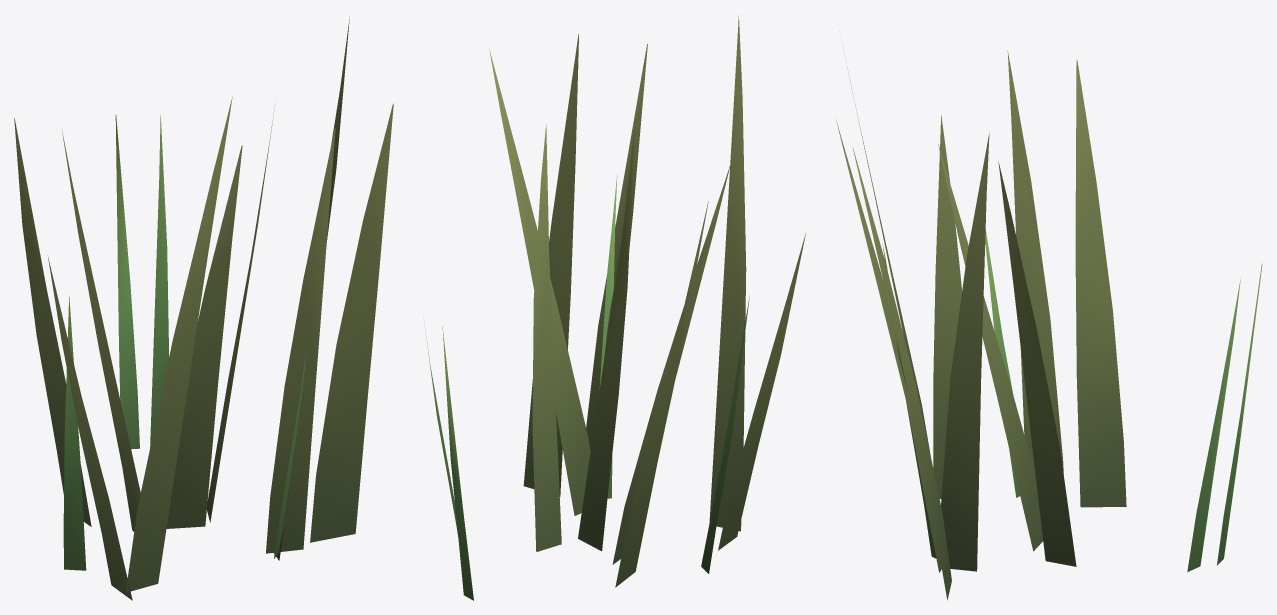
Rendered from BroadBlade_LOD0.glb.
3 views of the same model, side by side, from view 1: azimuth 30°, elevation 25°; view 2: azimuth 150°, elevation 25°; view 3: azimuth 270°, elevation 25° (orthographic). The views are drawn at different scales.
Visible parts, largest first — view 1: BroadBlade_LOD0; view 2: BroadBlade_LOD0; view 3: BroadBlade_LOD0.
Boxes of the visible parts, left/top/right/bottom form: BroadBlade_LOD0: left=14, top=16, right=393, bottom=600; BroadBlade_LOD0: left=424, top=15, right=805, bottom=600; BroadBlade_LOD0: left=836, top=47, right=1262, bottom=600.
Size of the model in its own units: 0.2224 by 0.3453 by 0.2628.
